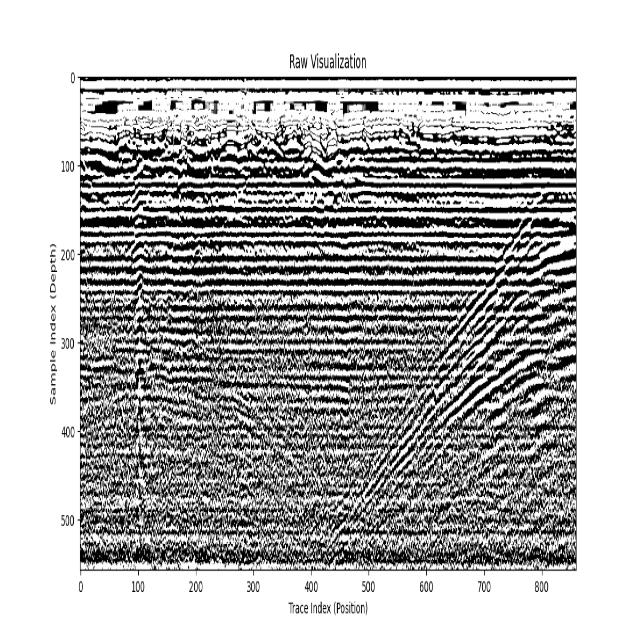anomaly: (308, 194, 573, 566)
